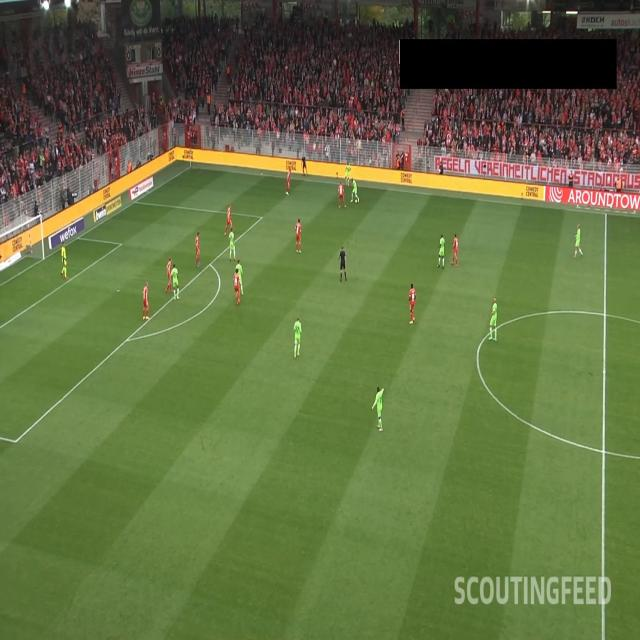ball: (354, 199, 358, 204)
